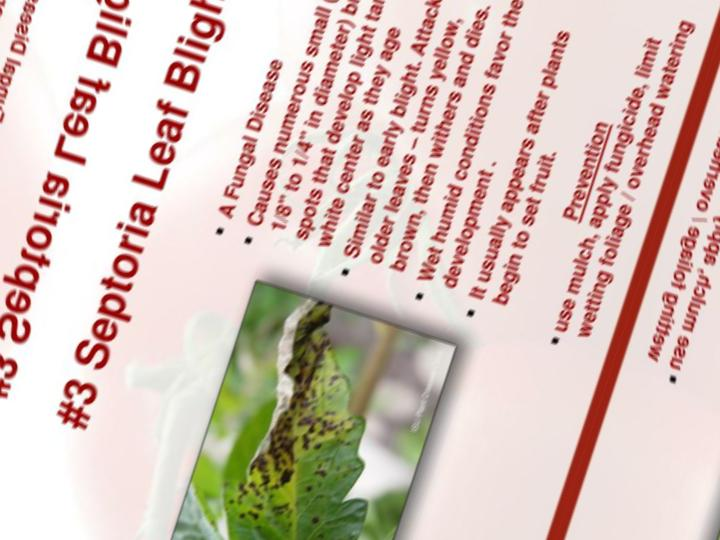Tomato Septoria leaf spot: (205, 295, 434, 540)
